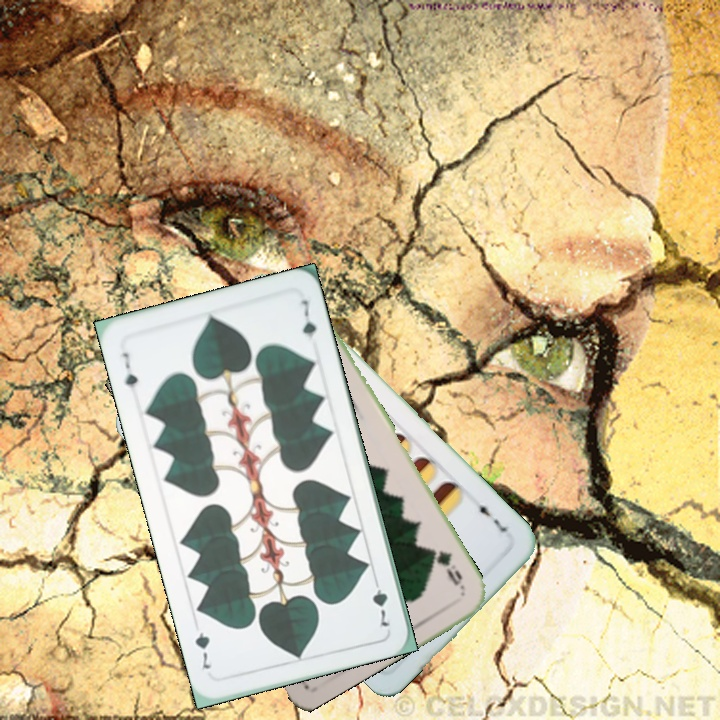E7: (473, 496, 510, 535)
G7: (368, 573, 393, 630), (118, 348, 141, 391)
G9: (425, 543, 467, 592)
